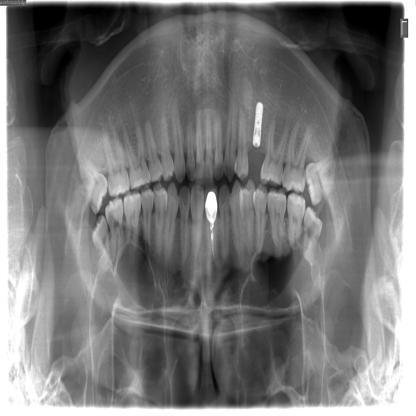ITI: (248, 87, 271, 154)
